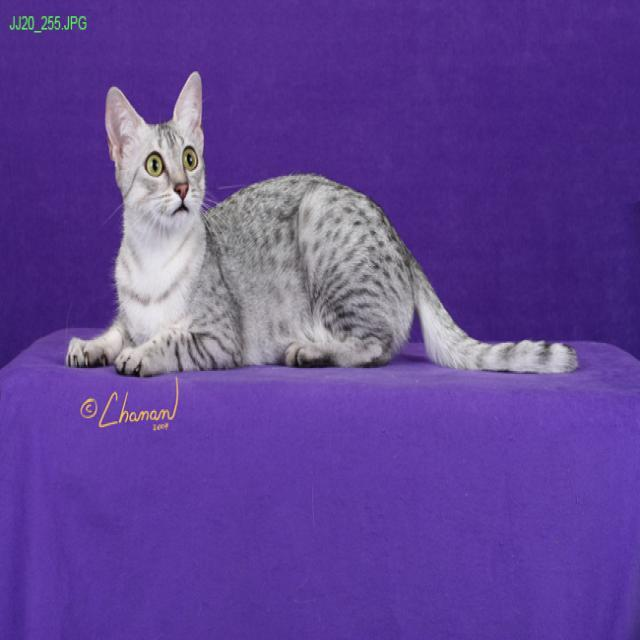Egyptian_Mau: (104, 70, 204, 228)
